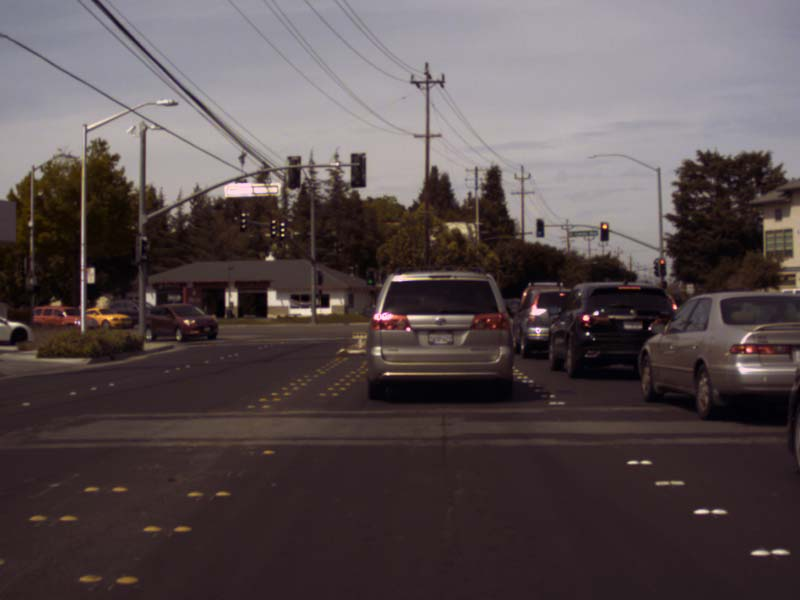Green: (535, 216, 544, 236), (366, 269, 374, 285)
Red: (600, 221, 608, 241), (658, 258, 665, 274)
